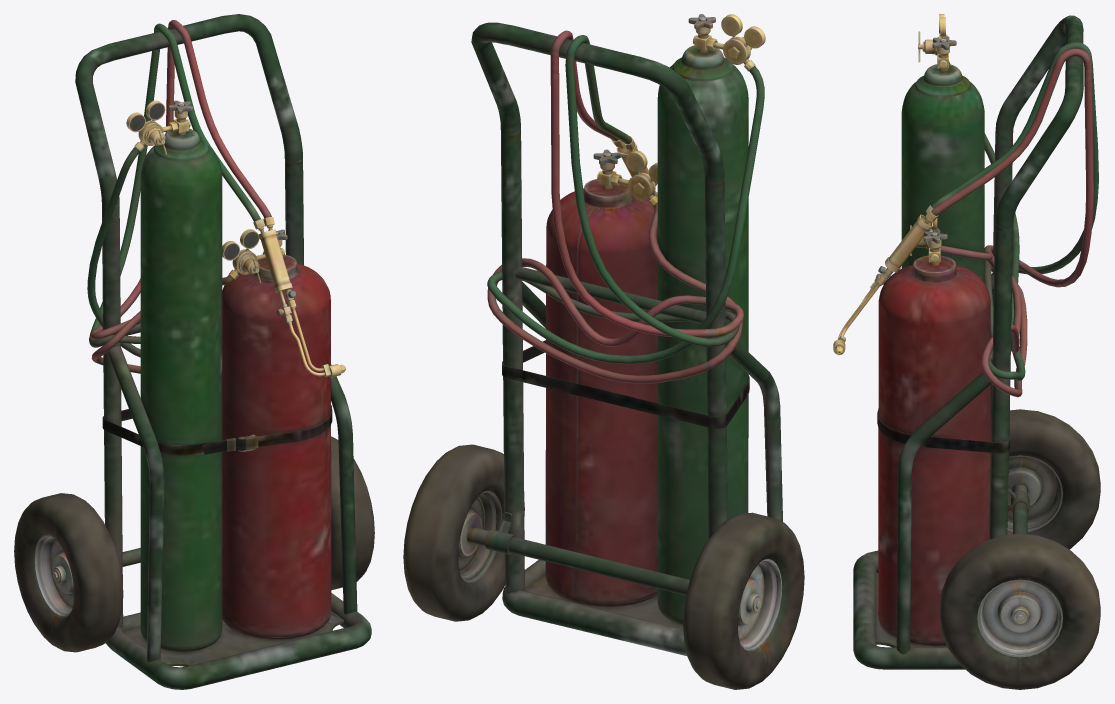
File: welding-cart.glb
The picture shows the model from 3 angles, left to right: view 1: azimuth 30°, elevation 25°; view 2: azimuth 150°, elevation 25°; view 3: azimuth 270°, elevation 25°; orthographic projection. The views are drawn at different scales.
Parts seen in each view (by area): view 1: Cylinder.044; view 2: Cylinder.044; view 3: Cylinder.044.
Boxes of the visible parts, bbox=[...] form: Cylinder.044: bbox=[14, 14, 374, 689]; Cylinder.044: bbox=[403, 14, 804, 689]; Cylinder.044: bbox=[833, 14, 1100, 689].
Bounding box in the file's own units: 0.8383 × 1.56 × 0.6549.
Materials: 2 (2 with a texture image).
